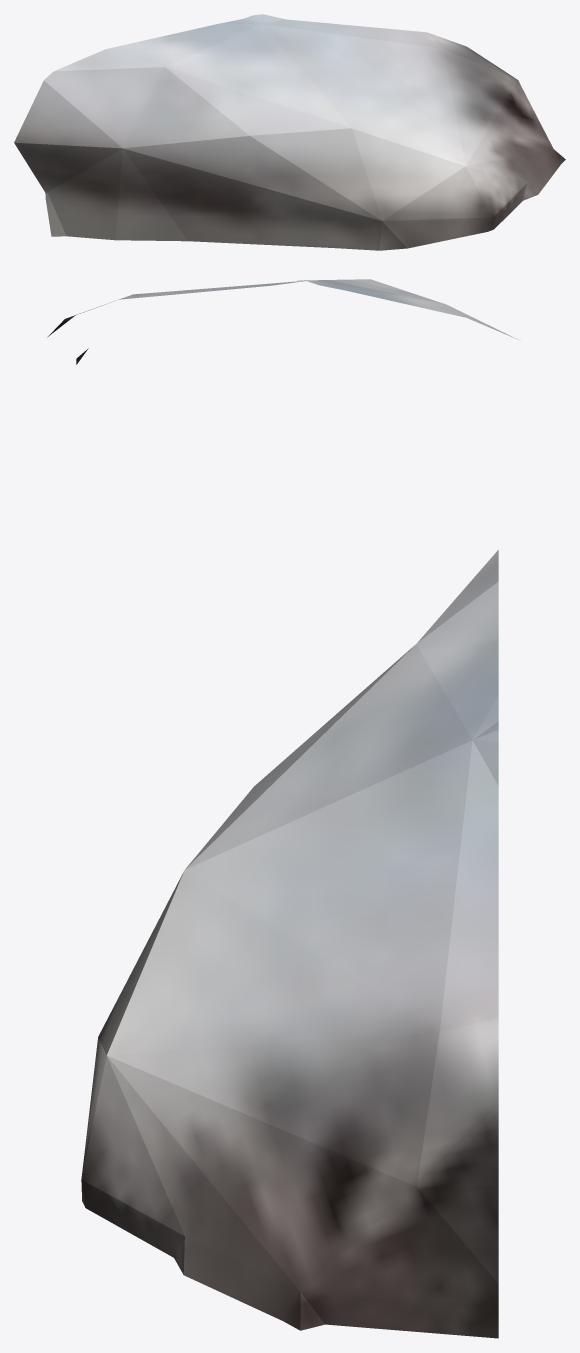
3 views of the same model, one above another, from view 1: azimuth 30°, elevation 25°; view 2: azimuth 150°, elevation 25°; view 3: azimuth 270°, elevation 25° (orthographic). The views are drawn at different scales.
Bounding box in the file's own units: 0.4661 × 0.1521 × 0.165.
1 material, 1 textured.
